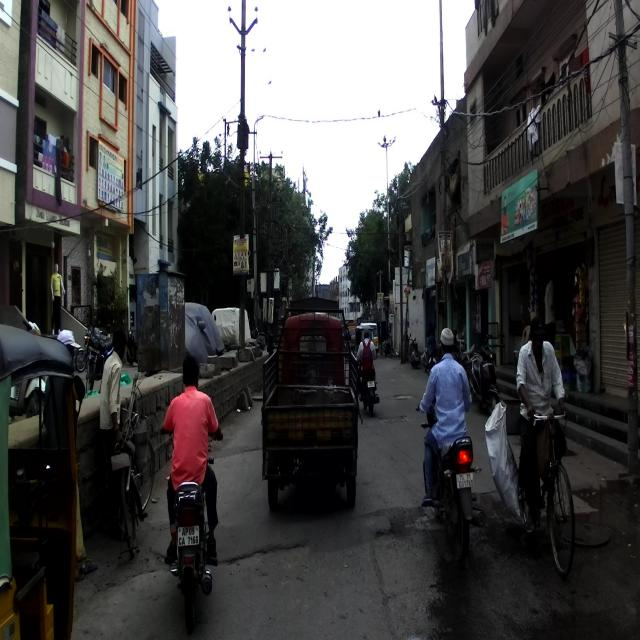autorickshaw: (0, 322, 86, 638), (257, 292, 363, 512)
motorcycle: (160, 447, 226, 638), (415, 396, 486, 566), (83, 326, 114, 398)
scooter: (470, 333, 500, 418)
